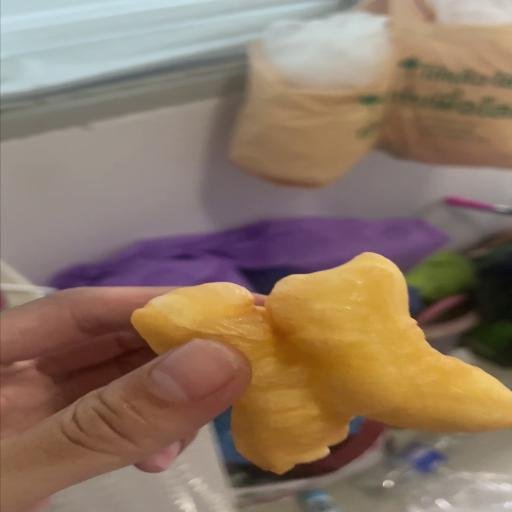street_golden_good: (132, 253, 512, 473)
